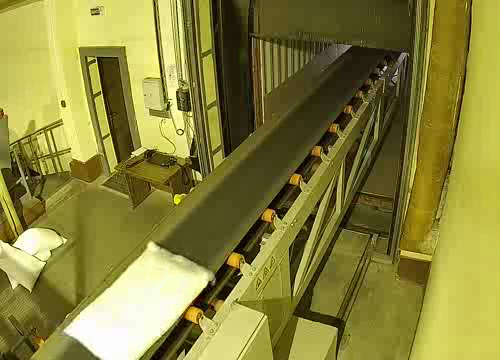bag: (60, 240, 220, 360)
